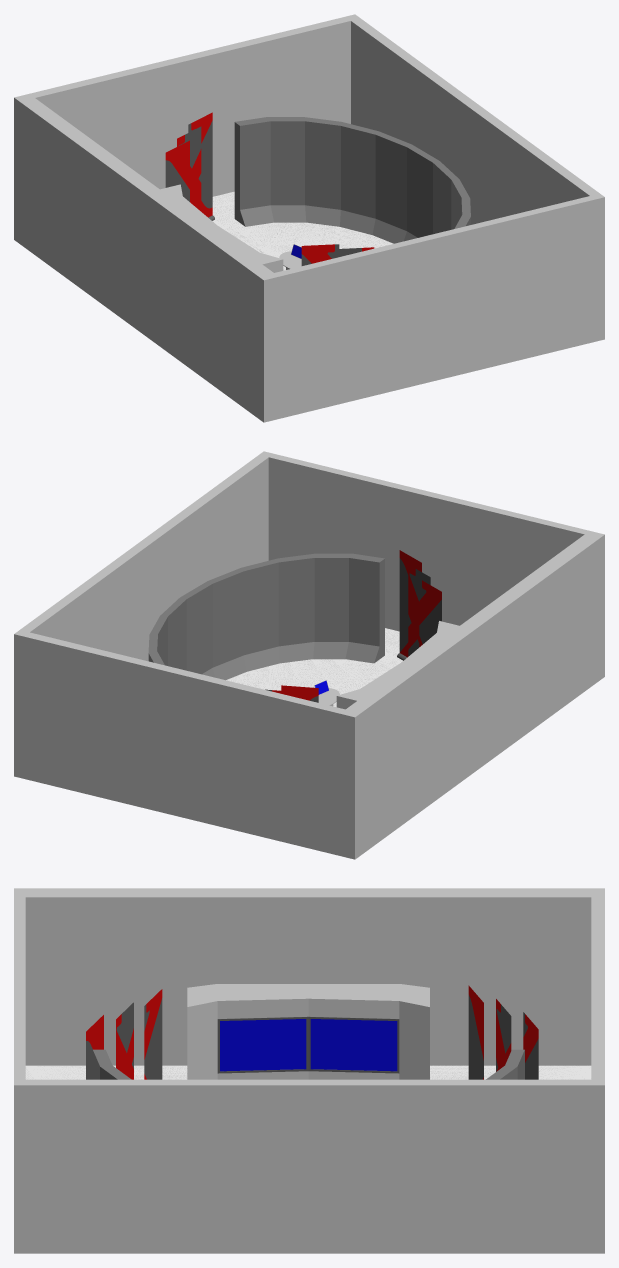
Rendered from studio5.dae.
The picture shows the model from 3 angles, top to bottom: view 1: azimuth 30°, elevation 25°; view 2: azimuth 150°, elevation 25°; view 3: azimuth 270°, elevation 25°; orthographic projection. The views are drawn at different scales.
Parts seen in each view (by area): view 1: SketchUp_047, SketchUp_046, SketchUp, SketchUp_003, SketchUp_039, SketchUp_035, SketchUp_043; view 2: SketchUp_047, SketchUp_046, SketchUp, SketchUp_003, SketchUp_014, SketchUp_027, SketchUp_021, SketchUp_023; view 3: SketchUp_047, SketchUp_046, SketchUp_003, SketchUp_005, SketchUp_004, SketchUp_007, SketchUp, SketchUp_023, SketchUp_030, SketchUp_027, SketchUp_021, SketchUp_025 (+1 smaller).
Boxes of the visible parts, bbox=[...] form: SketchUp_047: bbox=[14, 14, 604, 422]; SketchUp_046: bbox=[35, 21, 589, 248]; SketchUp: bbox=[234, 117, 470, 243]; SketchUp_003: bbox=[160, 184, 283, 272]; SketchUp_039: bbox=[201, 121, 212, 208]; SketchUp_035: bbox=[165, 140, 189, 189]; SketchUp_043: bbox=[177, 135, 201, 211]; SketchUp_047: bbox=[14, 451, 604, 859]; SketchUp_046: bbox=[30, 457, 584, 689]; SketchUp: bbox=[148, 553, 384, 680]; SketchUp_003: bbox=[336, 621, 459, 709]; SketchUp_014: bbox=[399, 558, 408, 652]; SketchUp_027: bbox=[408, 564, 419, 649]; SketchUp_021: bbox=[419, 580, 441, 624]; SketchUp_023: bbox=[419, 600, 441, 644]; SketchUp_047: bbox=[14, 888, 604, 1253]; SketchUp_046: bbox=[25, 897, 591, 1079]; SketchUp_003: bbox=[187, 984, 429, 1079]; SketchUp_005: bbox=[310, 1019, 397, 1071]; SketchUp_004: bbox=[220, 1019, 306, 1071]; SketchUp_007: bbox=[217, 1016, 399, 1073]; SketchUp: bbox=[92, 1049, 524, 1079]; SketchUp_023: bbox=[144, 998, 162, 1079]; SketchUp_030: bbox=[468, 995, 483, 1079]; SketchUp_027: bbox=[116, 1014, 133, 1079]; SketchUp_021: bbox=[144, 989, 162, 1059]; SketchUp_025: bbox=[116, 1002, 133, 1052].
Size of the model in its own units: 10.06 by 12.76 by 4.01.
